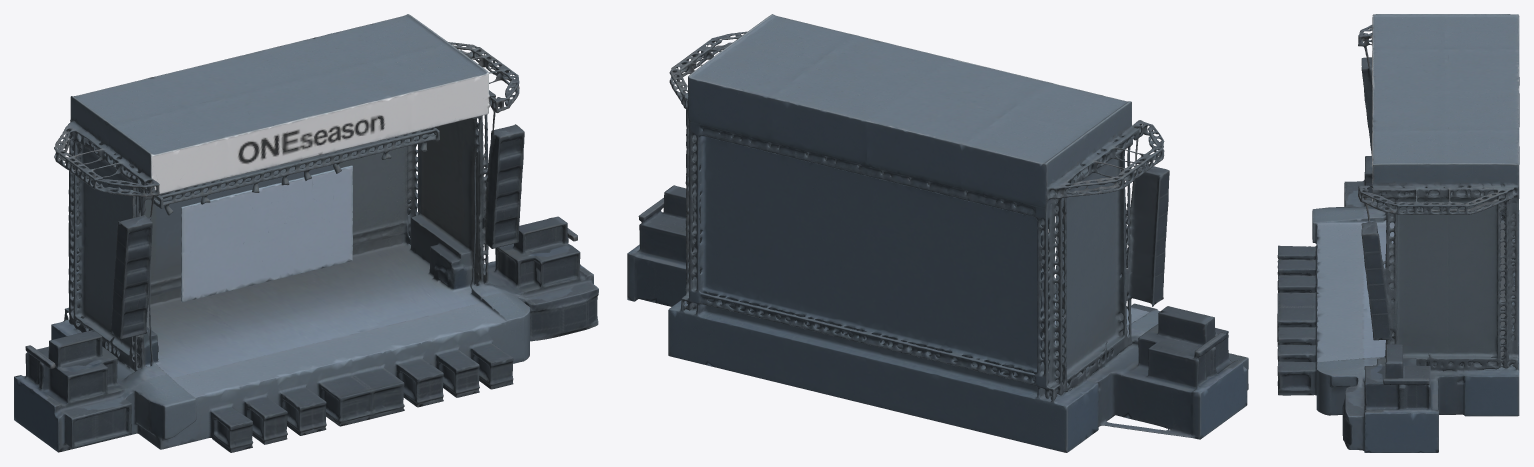
The model's file is stage.glb.
3 views of the same model, side by side, from view 1: azimuth 30°, elevation 25°; view 2: azimuth 150°, elevation 25°; view 3: azimuth 270°, elevation 25° (orthographic). The views are drawn at different scales.
Size of the model in its own units: 1.9 by 0.9047 by 0.811.
Materials: 1 (1 with a texture image).
